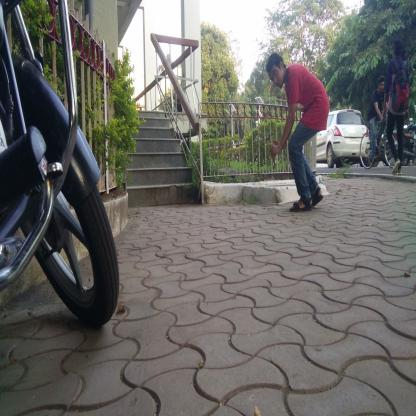stairs: (145, 116, 196, 211)
